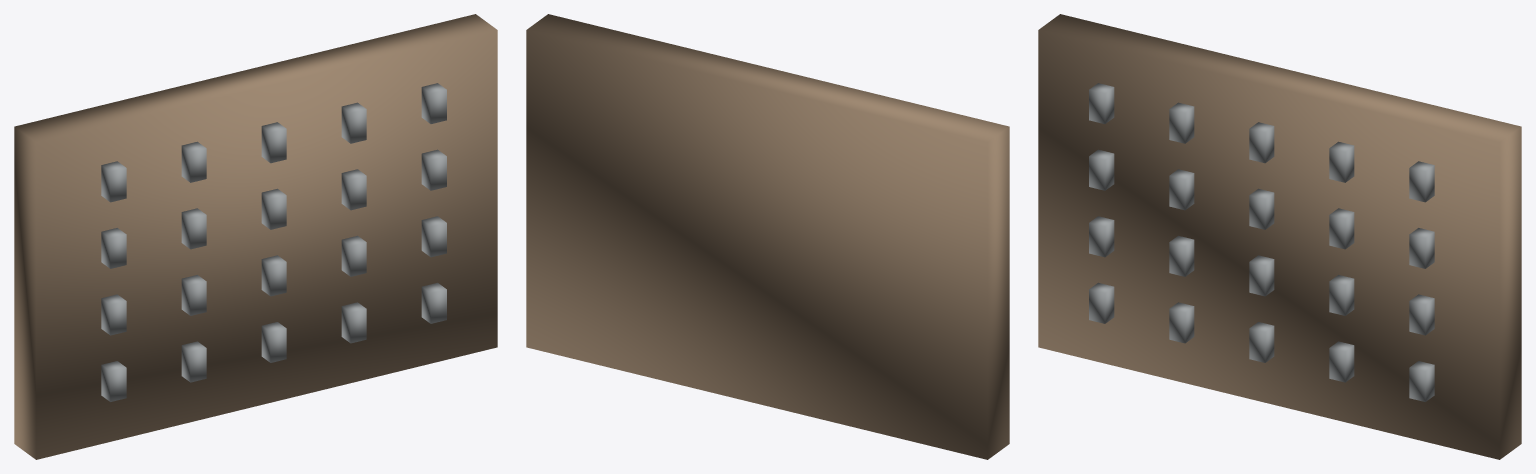
File: key_cubby_rack__squat.glb
3 renders of one model, left to right at view 1: azimuth 30°, elevation 25°; view 2: azimuth 150°, elevation 25°; view 3: azimuth 330°, elevation 25°, orthographic.
Visible parts, largest first — view 1: world; view 2: world; view 3: world.
Boxes of the visible parts, x1=… form: world: x1=14, y1=14, x2=497, y2=459; world: x1=526, y1=14, x2=1009, y2=459; world: x1=1038, y1=14, x2=1521, y2=459.
Bounding box in the file's own units: 0.792 × 0.5208 × 0.0999.
